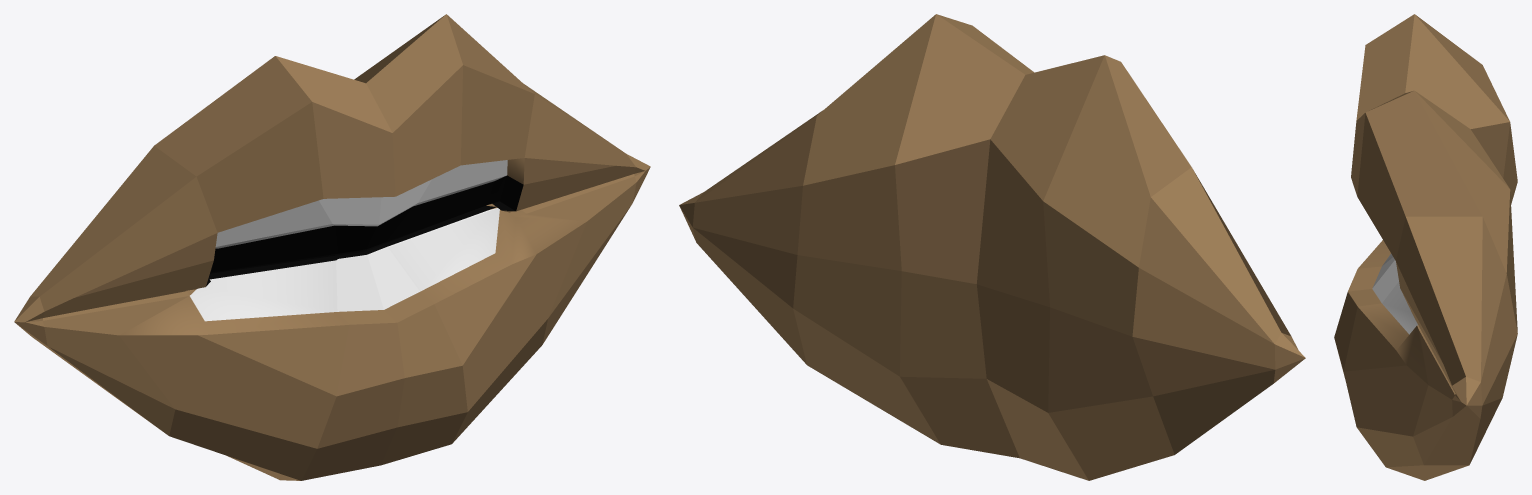
Rendered from Boca.fbx.
3 renders of one model, left to right at view 1: azimuth 30°, elevation 25°; view 2: azimuth 150°, elevation 25°; view 3: azimuth 270°, elevation 25°, orthographic. The views are drawn at different scales.
Parts seen in each view (by area): view 1: Boca; view 2: Boca; view 3: Boca.
Part boxes in pixels (x1=…): Boca: x1=14, y1=14, x2=650, y2=480; Boca: x1=679, y1=14, x2=1305, y2=480; Boca: x1=1334, y1=14, x2=1517, y2=480.
Size of the model in its own units: 2454 by 1587 by 669.
